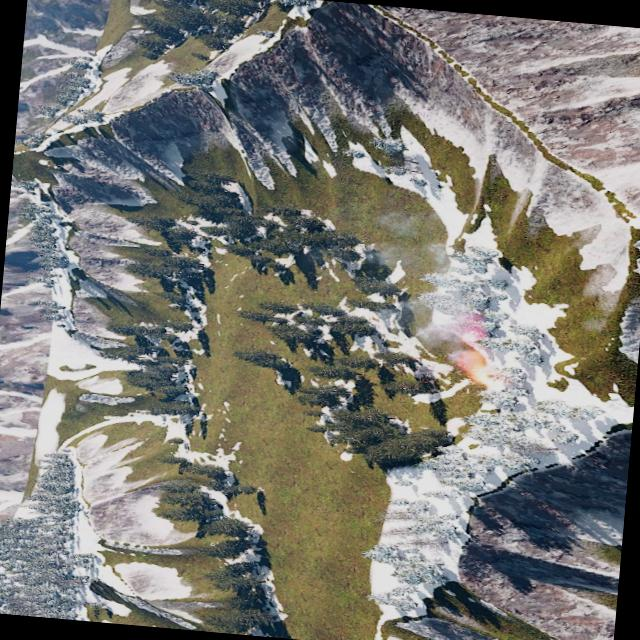fire: (466, 361, 496, 384), (460, 327, 486, 343)
smoke: (354, 203, 508, 359)
